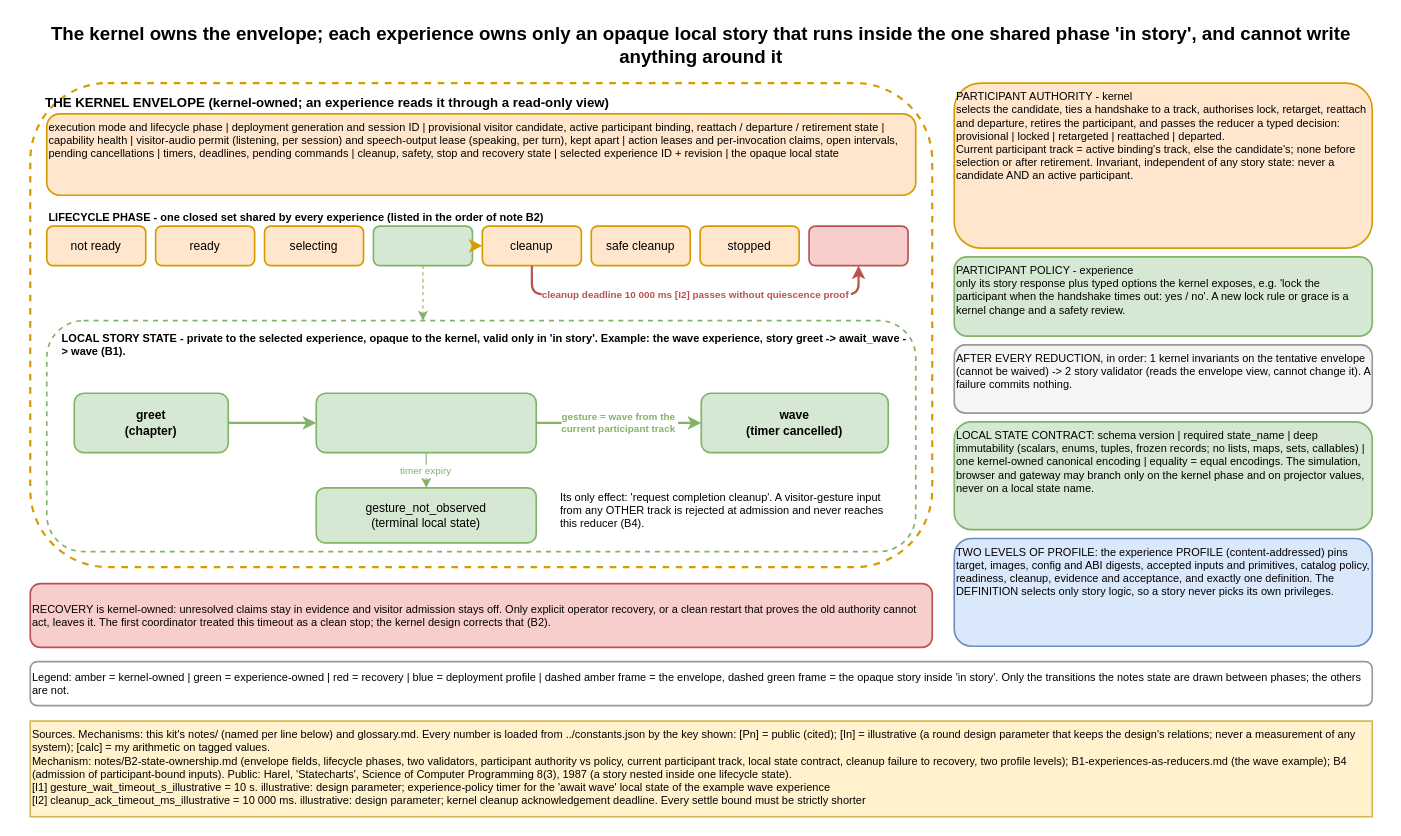
Some shapes in this 1401 by 836 pixel diagram are drawn without their labels. The shapes that lost their labels are listed below. From the top down, each one's centre as x and y in pixels, then its label:
At point 422,245: "in story".
At point 858,245: "recovery".
At point 426,422: "await_wave starts a 10 s gesture-wait timer [I1]".
